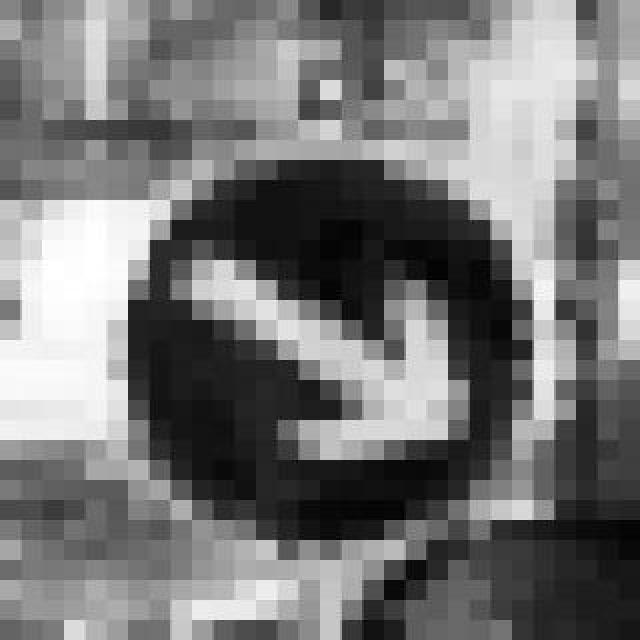keep right: (84, 120, 512, 560)
